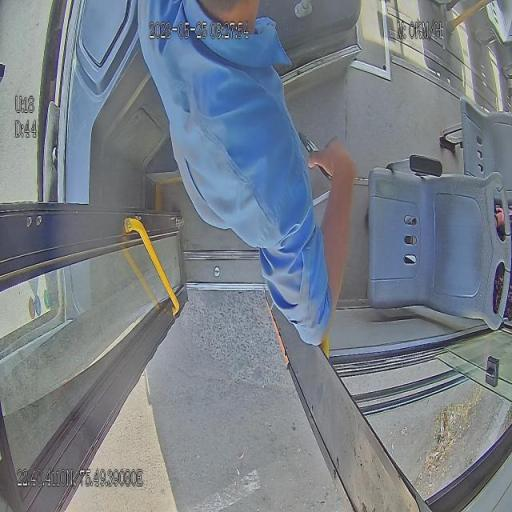persona: (136, 0, 358, 351)
